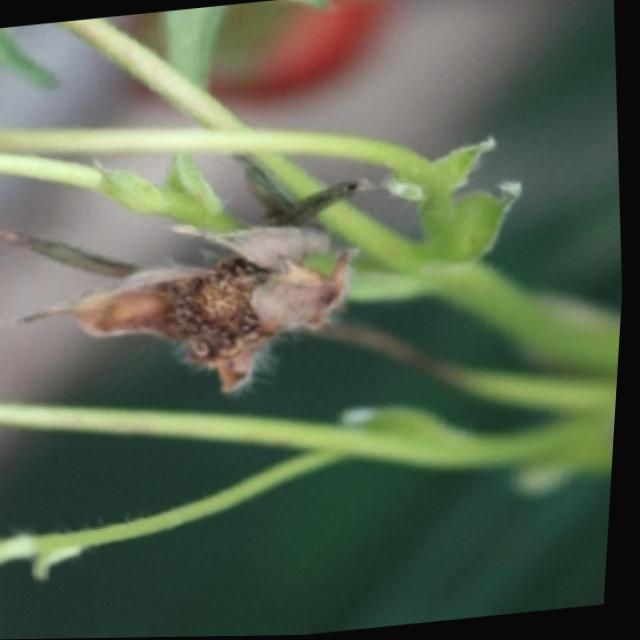Gray Mold: (17, 222, 365, 397)
